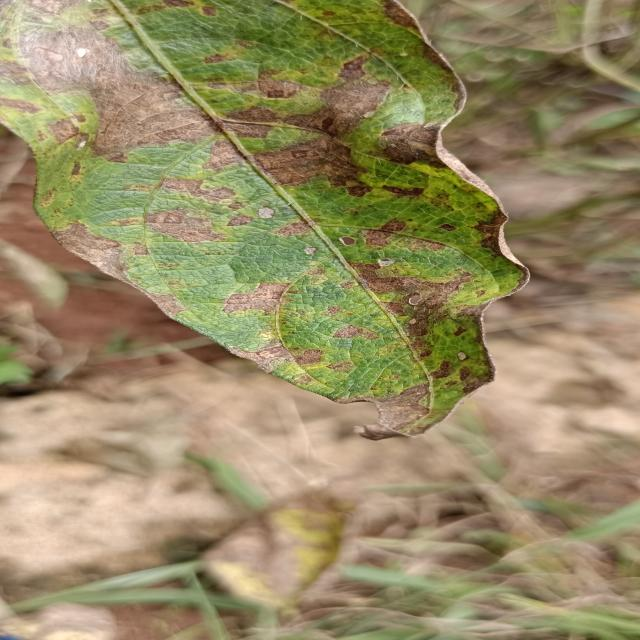Black gram_leaf spot: (0, 0, 542, 443)
